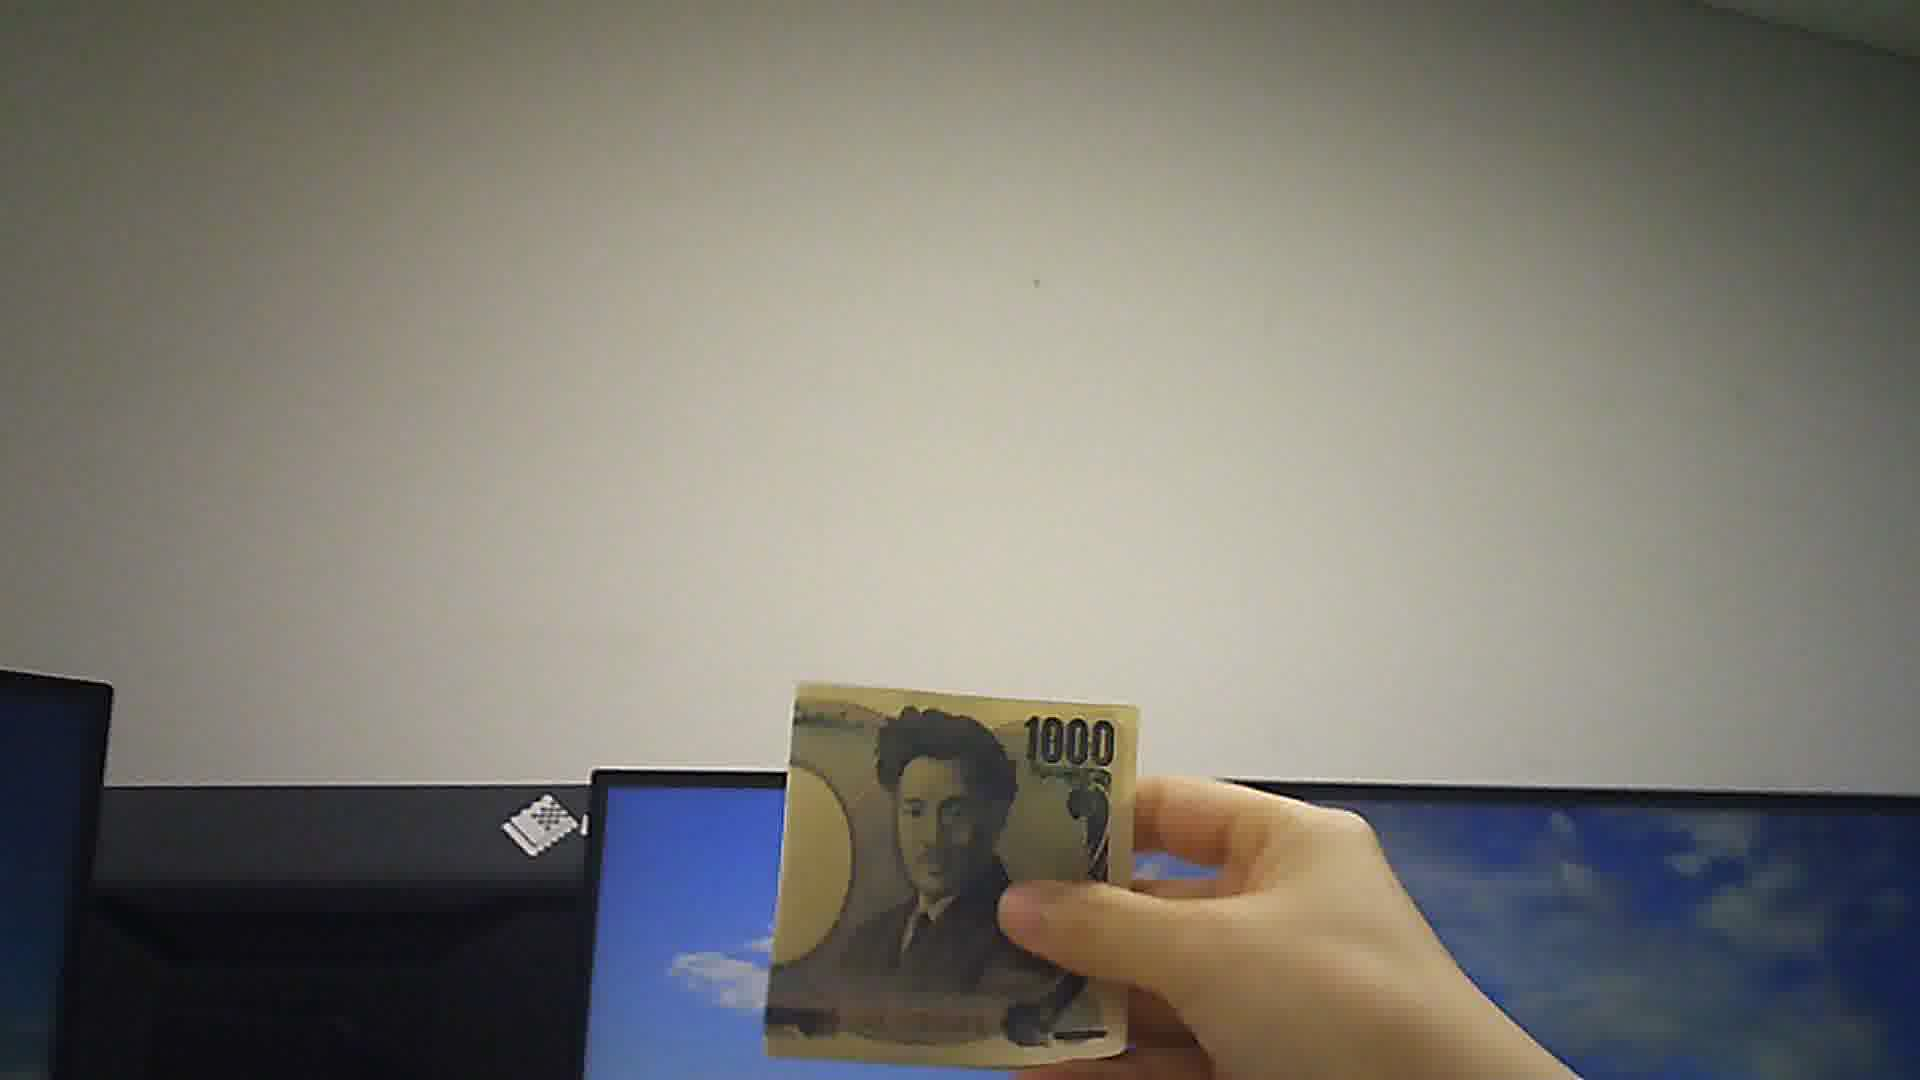1,000 Yen: (764, 661, 1145, 1079)
